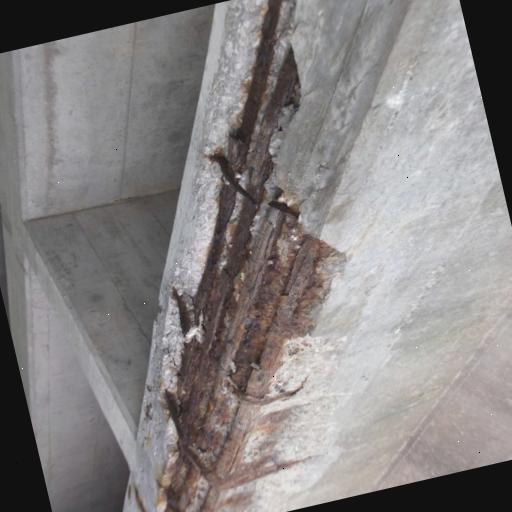spalling: (144, 0, 343, 512)
